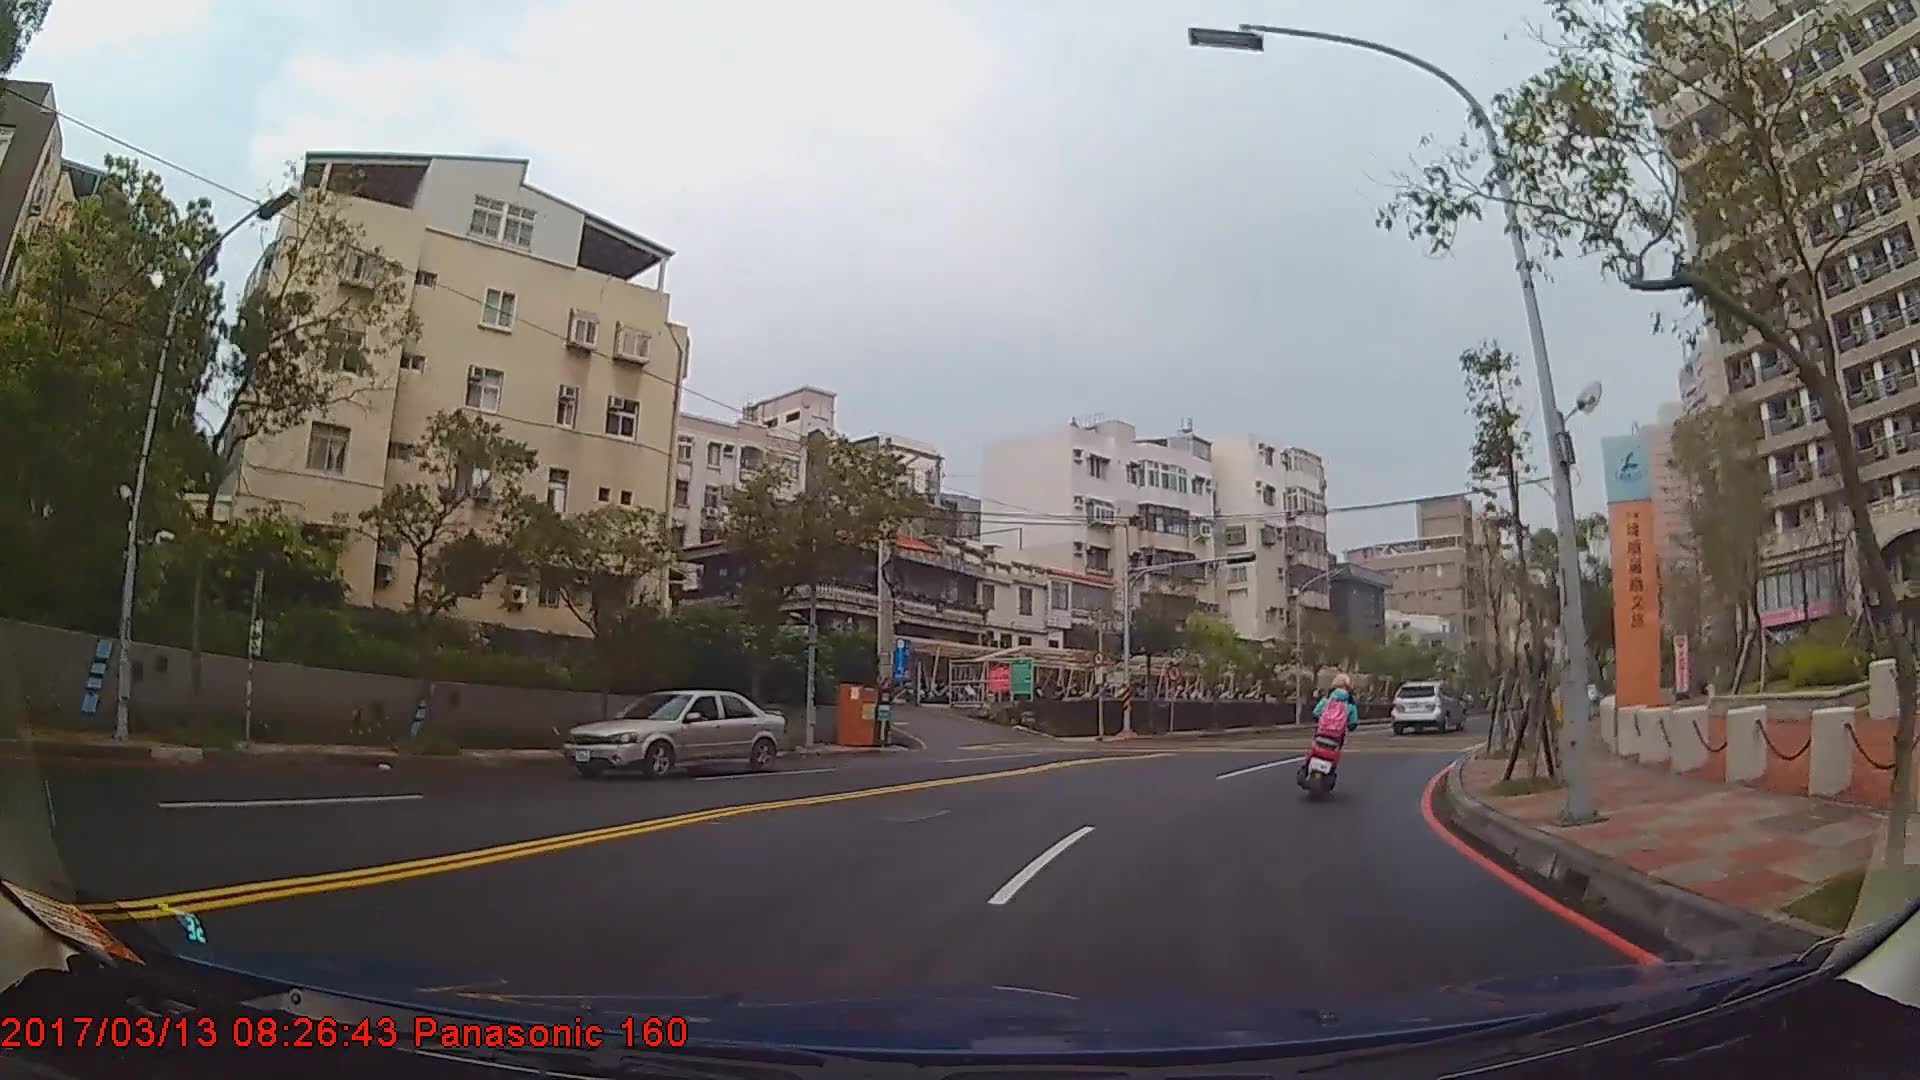rider: (1303, 673, 1363, 796)
vehicle: (563, 690, 788, 783), (1390, 679, 1461, 735)
